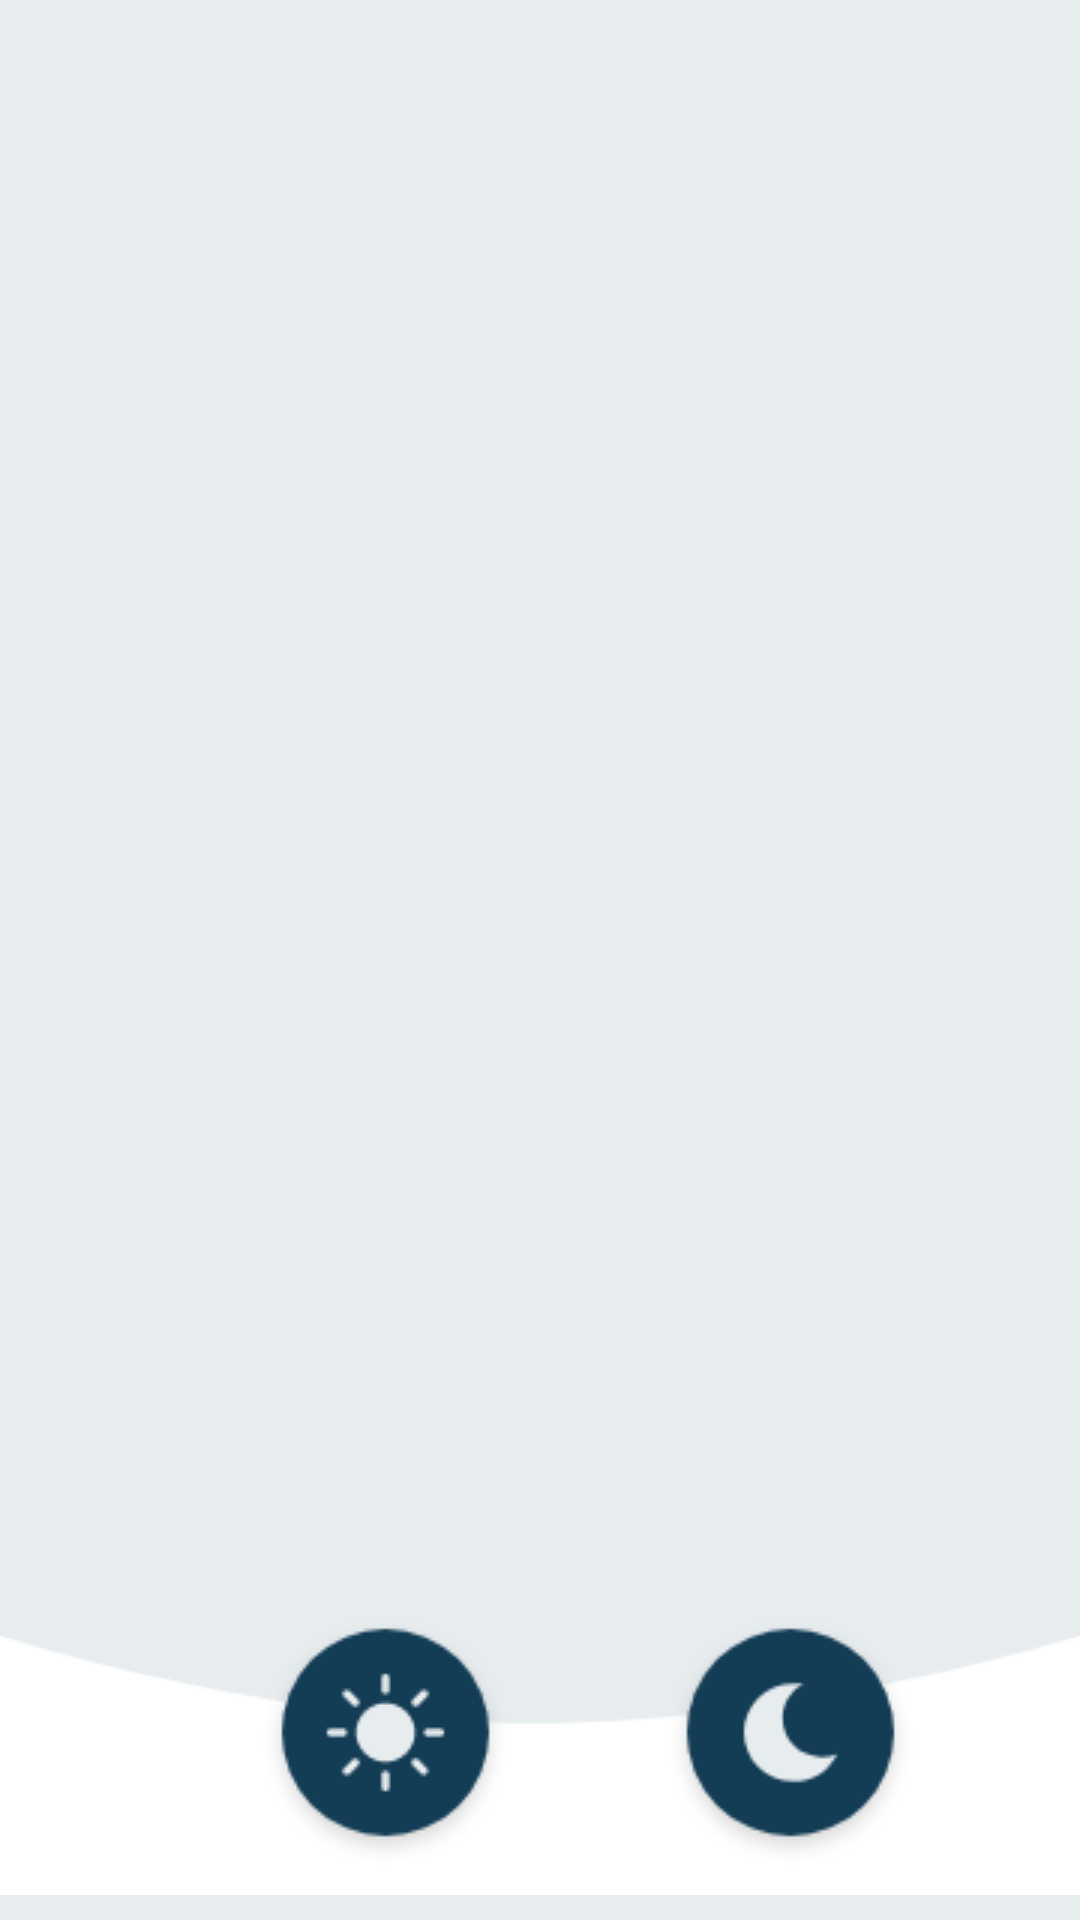

Point at icon controls on the screen. Image size 1080 x 1920, points as (x,y).
malam: (785,1729)
siang: (388,1729)
